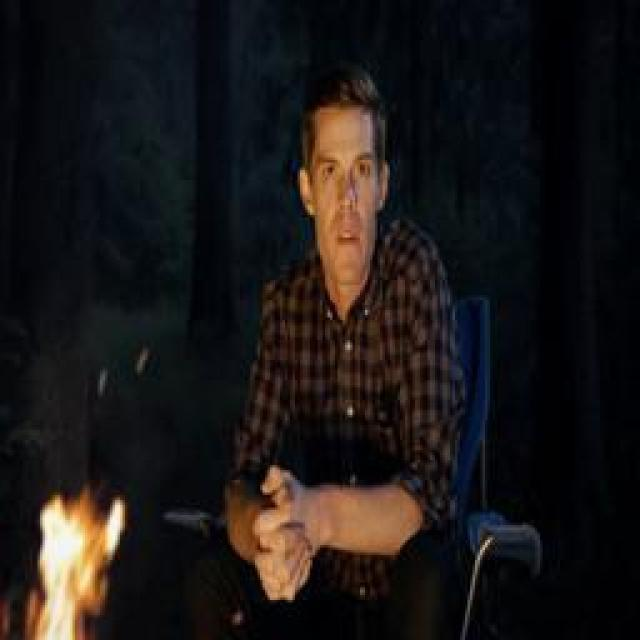Fire: (30, 495, 128, 640)
